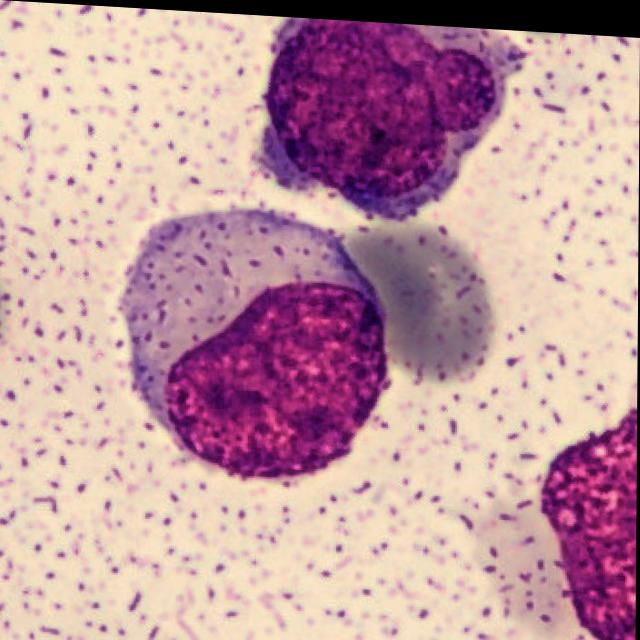Mieloblasto: (118, 208, 391, 476), (256, 14, 502, 218)
